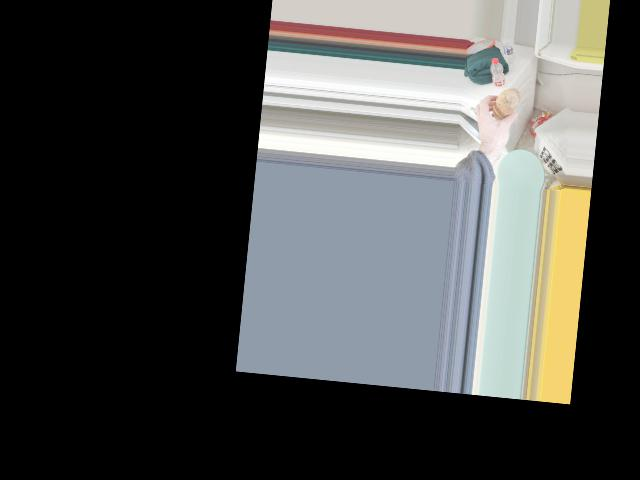sweet_potato: (489, 86, 521, 123)
